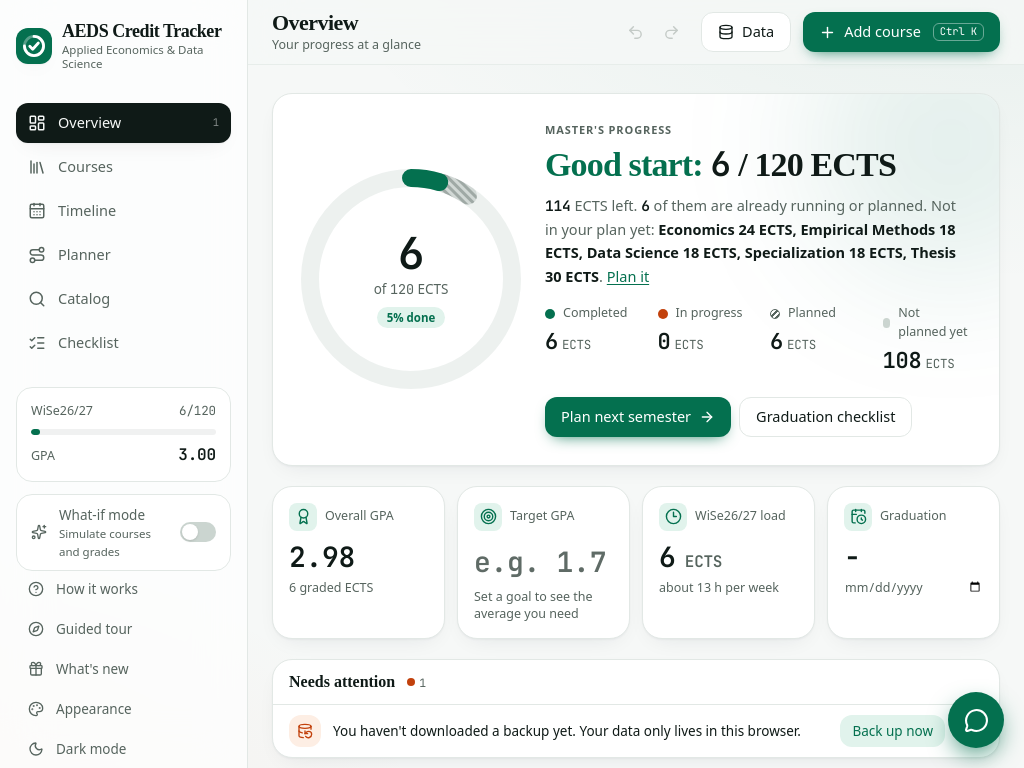
Test: AEDS Assistant stop, modules and follow-ups › stops before any text arrives
Click the button named "Open AEDS AI Assistant chat".
click(976, 720)  # box [948, 692, 1004, 748]
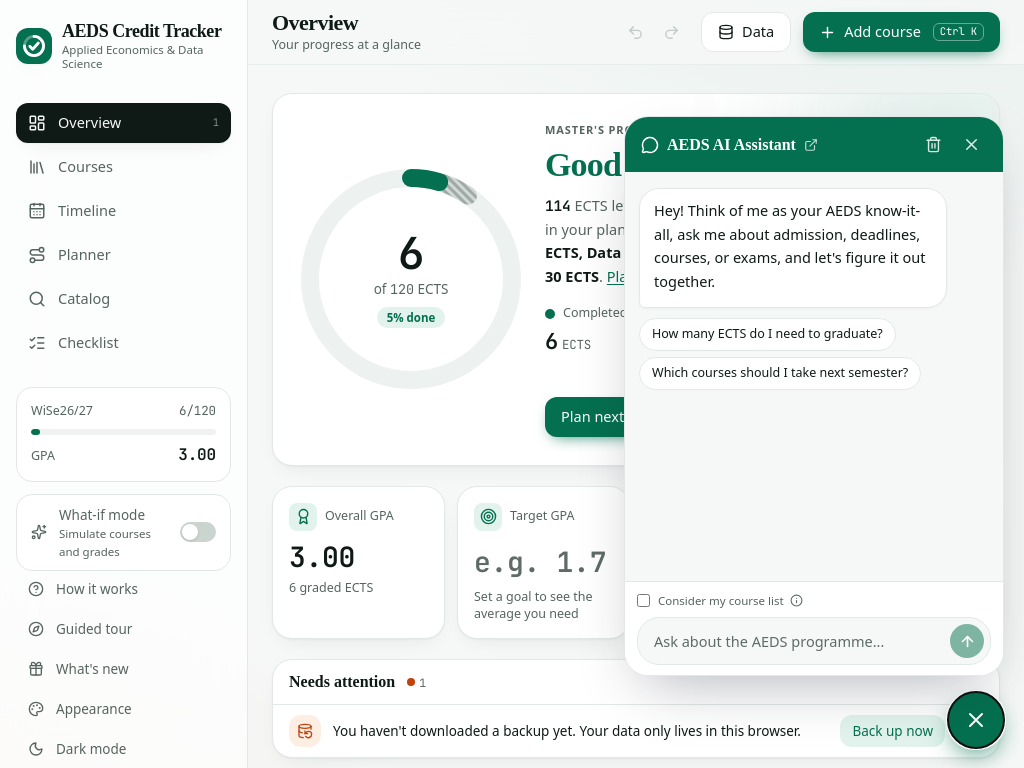
Type "Retakes?" into the text box with placeholder "Ask about the AEDS programme...".
click(799, 642); type("Retakes?")  # box [654, 626, 944, 658]
Then press Enter
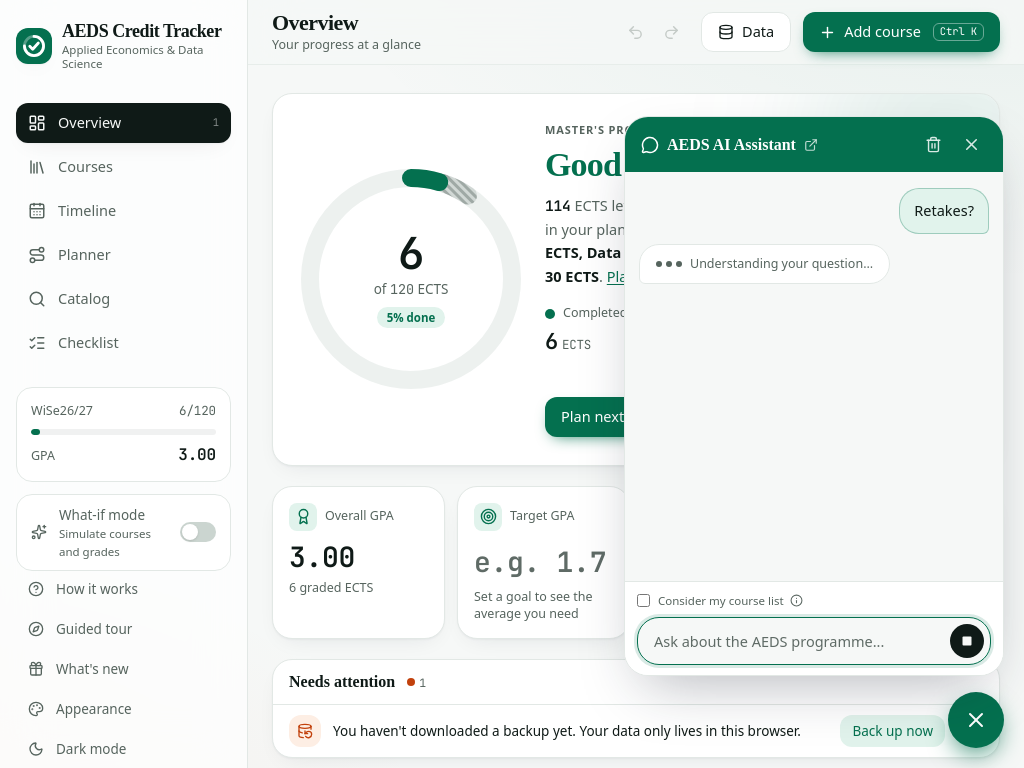
Click the button named "Stop answer".
click(967, 641)  # box [950, 624, 984, 658]
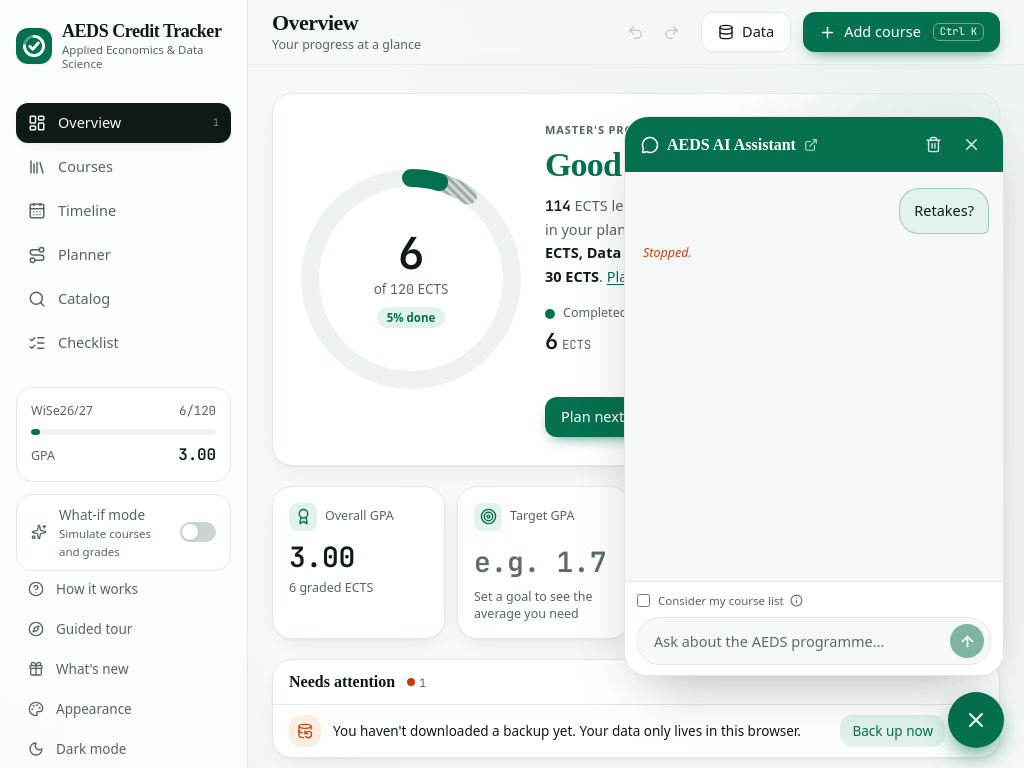
Expected: the text "Stopped." is shown, [639, 244, 696, 262]
